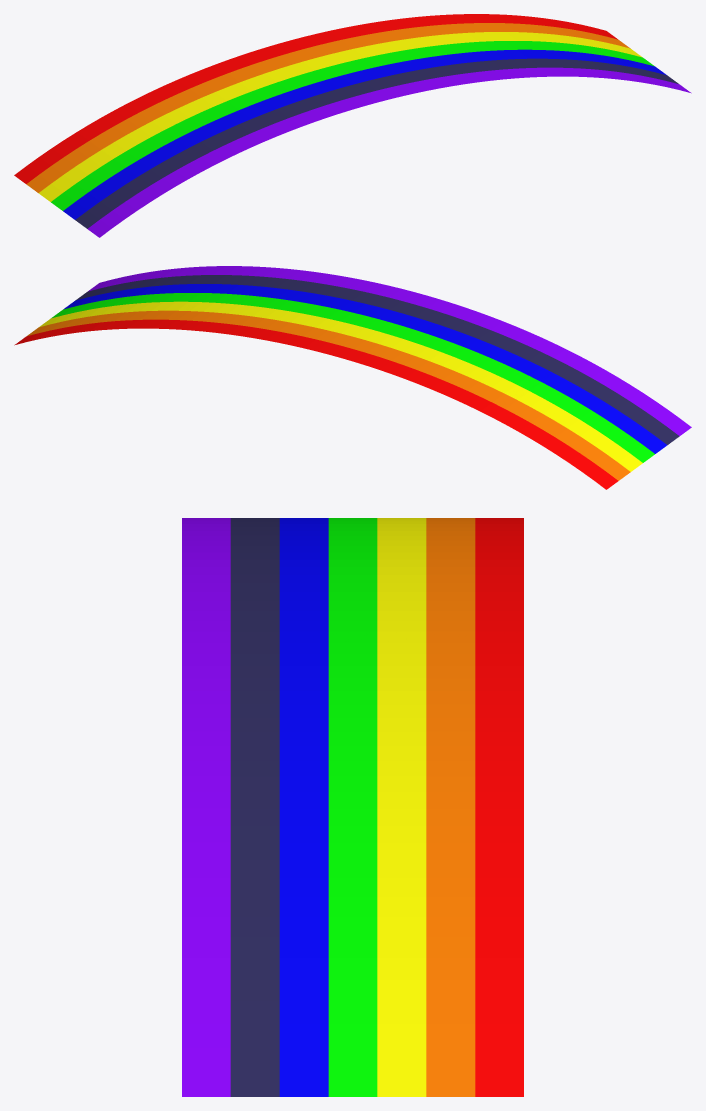
The model's file is Rainbow Curve.fbx.
3 renders of one model, top to bottom at view 1: azimuth 30°, elevation 25°; view 2: azimuth 150°, elevation 25°; view 3: azimuth 270°, elevation 25°, orthographic. The views are drawn at different scales.
Visible parts, largest first — view 1: Rainbow Curve; view 2: Rainbow Curve; view 3: Rainbow Curve.
Boxes of the visible parts, bbox=[...] form: Rainbow Curve: bbox=[14, 14, 691, 237]; Rainbow Curve: bbox=[14, 266, 691, 489]; Rainbow Curve: bbox=[182, 518, 523, 1096].
Bounding box in the file's own units: 400 × 43.73 × 100.
